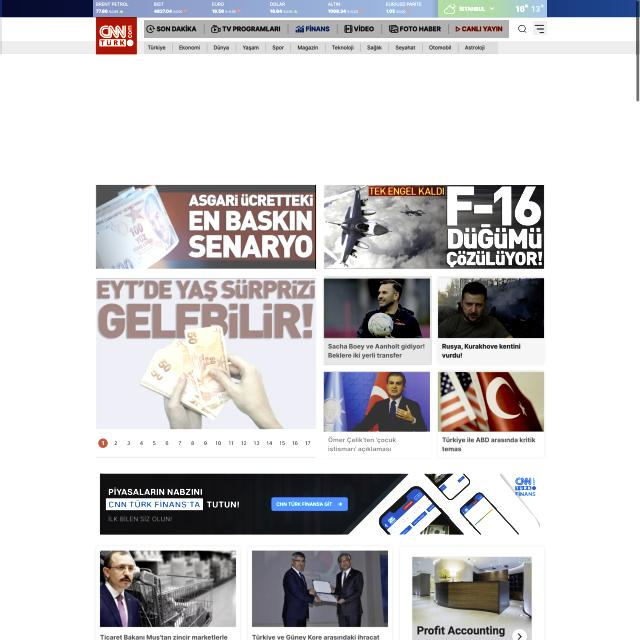ImageView: (102, 473, 542, 536)
QR code: (93, 0, 547, 17)
Spinner: (322, 369, 431, 458), (324, 276, 432, 365), (438, 276, 544, 364)
bag: (2, 0, 637, 55)
carousel: (516, 23, 528, 35)
copy: (95, 279, 316, 430), (96, 184, 315, 269), (324, 184, 544, 268), (323, 371, 430, 432), (323, 279, 430, 339), (439, 370, 544, 431)
date picker: (96, 17, 137, 54)
decoration: (144, 20, 509, 38), (144, 42, 498, 54), (533, 21, 547, 35)
dropdown: (94, 433, 315, 452)
